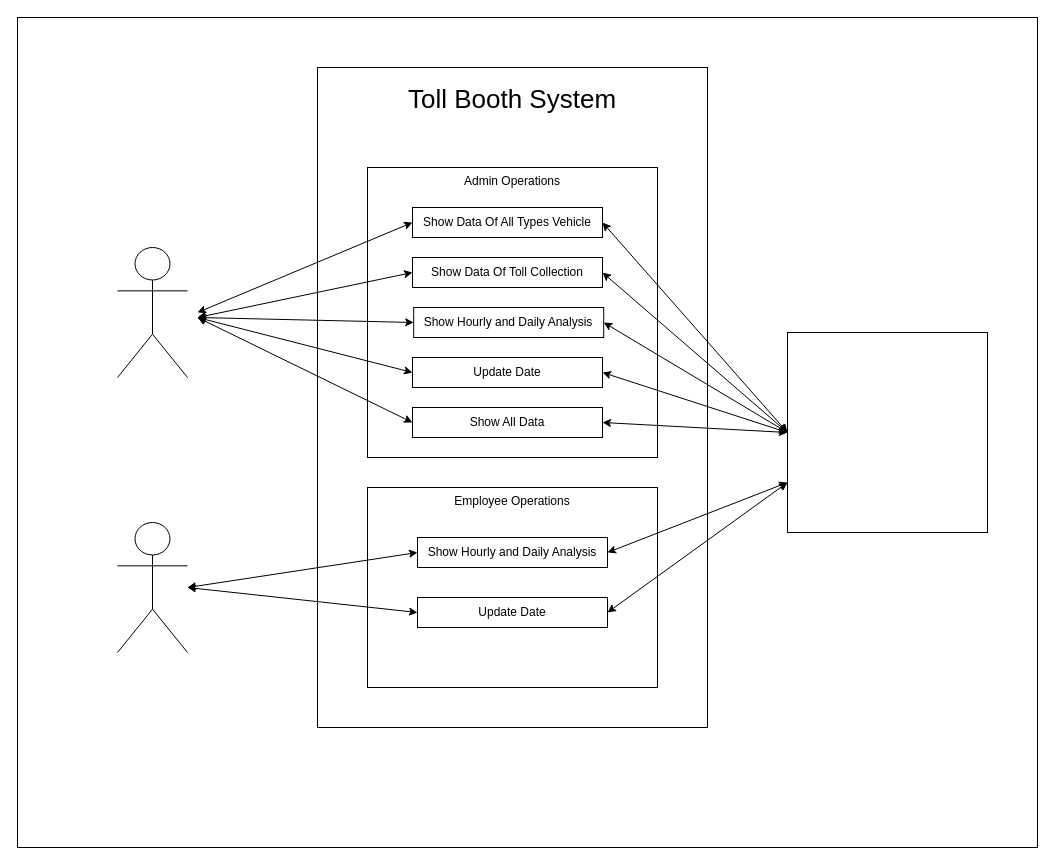
Some shapes in this 1055 by 865 pixel diagram are drawn without their labels. Here are the shapes that lost their labels. From the top down, the centre of each, then its label:
At [152,312]: "Admin".
At [887,432]: "Toll Booth Data".
At [152,587]: "Employee".
